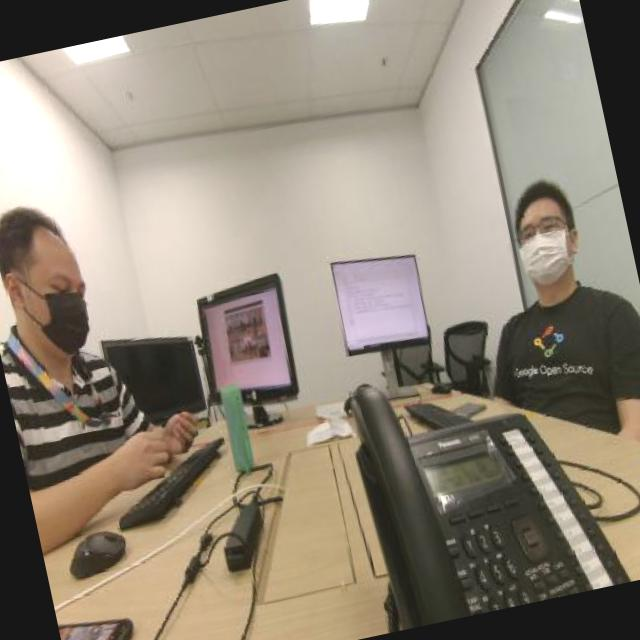Person: (468, 132, 640, 440), (0, 174, 158, 509)
